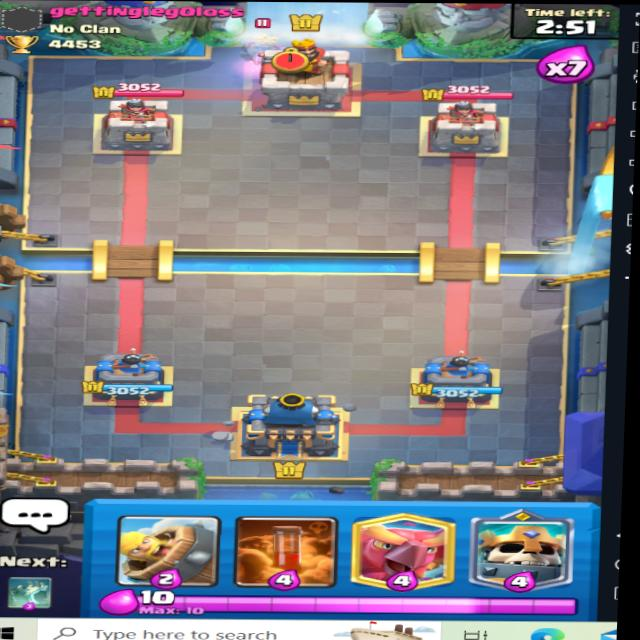royal-ghost: (238, 16, 292, 71)
